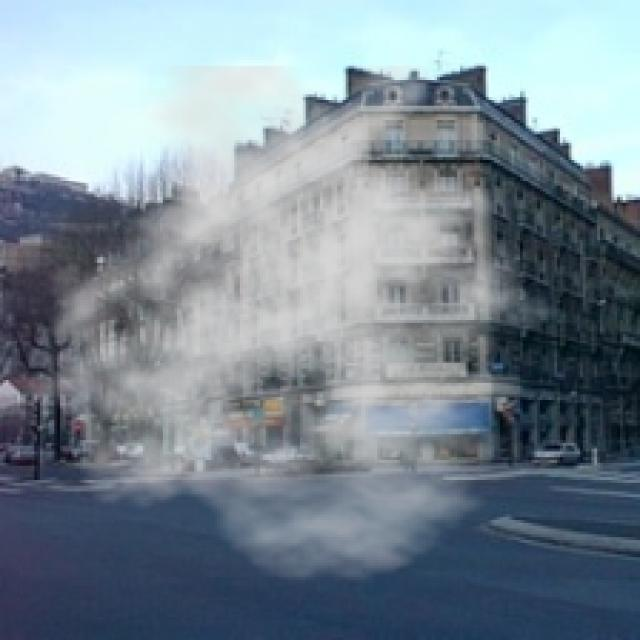smoke: (23, 66, 586, 583)
